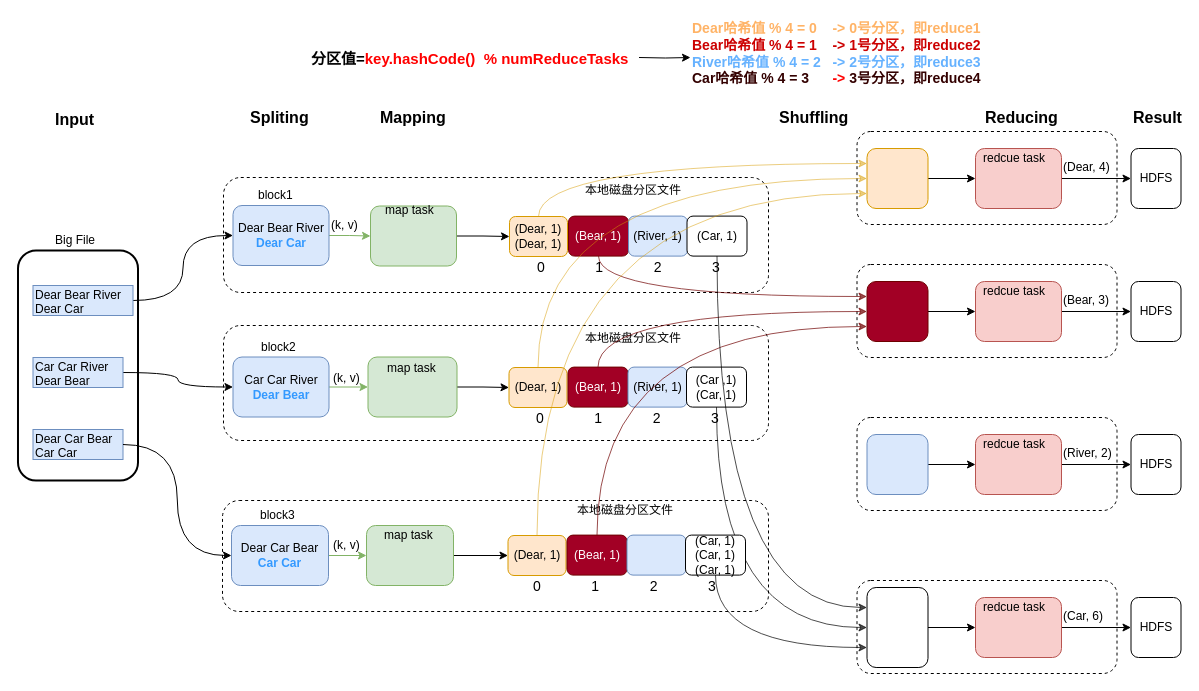
Some shapes in this 1199 by 691 pixel diagram are drawn without their labels. The shapes that lost their labels are listed below. From the top down, each one's box as (x1, y1, x2, y2) in pixels, then its label:
(866, 148, 928, 208): (Dear, 1) (Dear, 1) (Dear, 1) (Dear, 1)
(866, 280, 928, 342): (Bear, 1) (Bear, 1) (Bear, 1)
(866, 434, 928, 494): (River, 1) (River, 1)
(866, 586, 928, 668): (Car ,1) (Car ,1) (Car ,1) (Car ,1) (Car ,1) (Car ,1)
